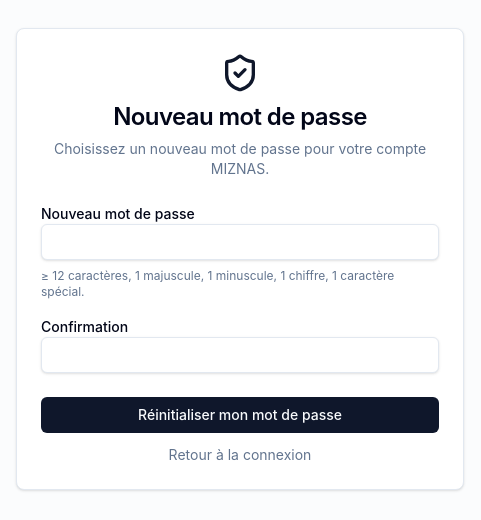
Test case: ResetPasswordPage › confirmation différente du nouveau mdp → erreur
Type "NewPass!2026" into the password field with test id "rp-nouveau". click: (240, 242)
box: left=41, top=224, right=439, bottom=260
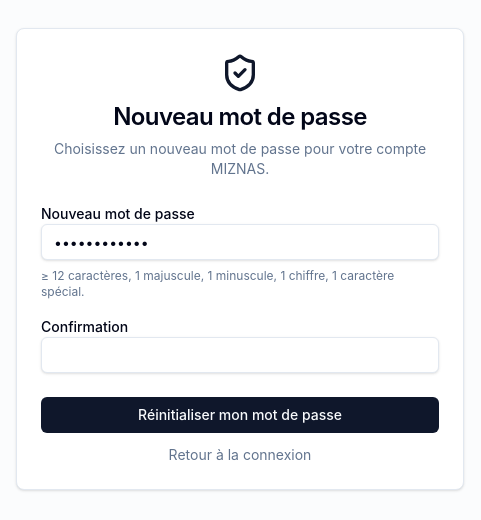
Type "OtherPass!2026" into the password field with test id "rp-confirmation". click: (240, 355)
box: left=41, top=337, right=439, bottom=373
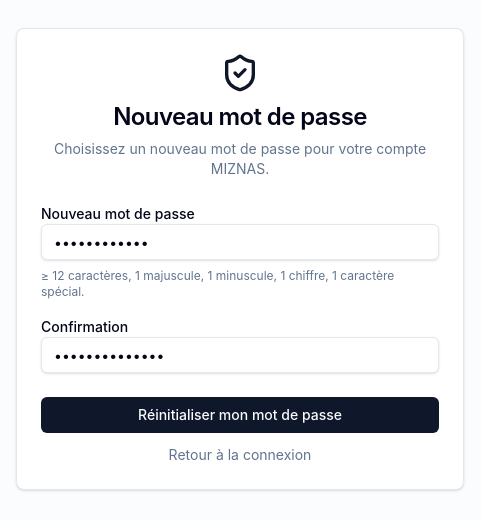
Click the button with test id "rp-submit". click: click(240, 415)
box: left=41, top=397, right=439, bottom=433
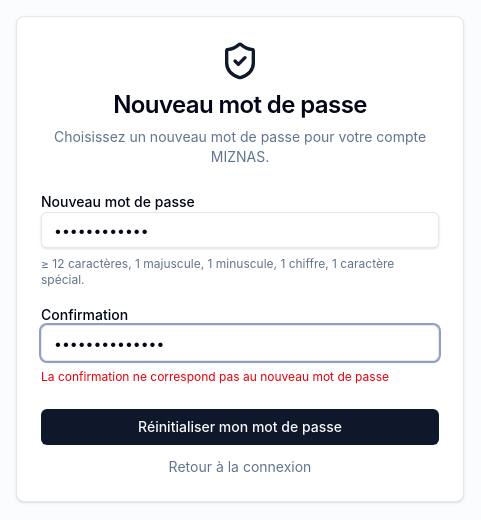
Expected: the text "La confirmation ne correspond pas au nouveau mot de passe" is shown, left=41, top=369, right=439, bottom=385
